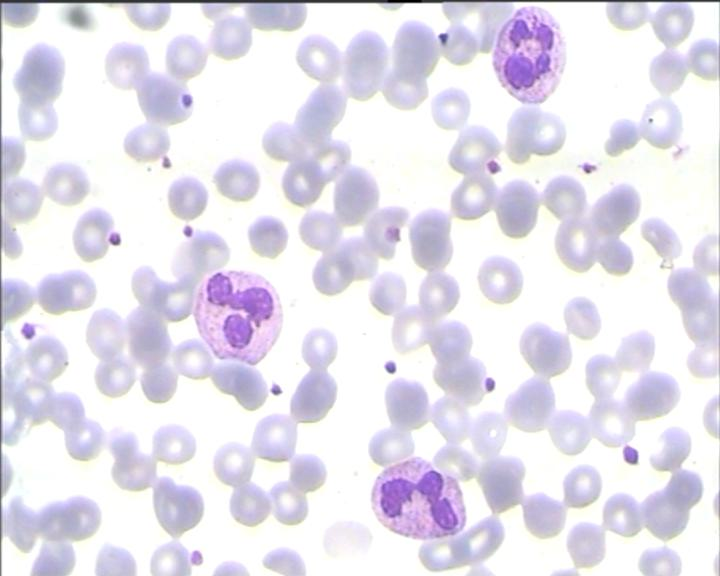neut: (192, 271, 286, 363), (368, 455, 470, 539), (489, 4, 567, 104)
